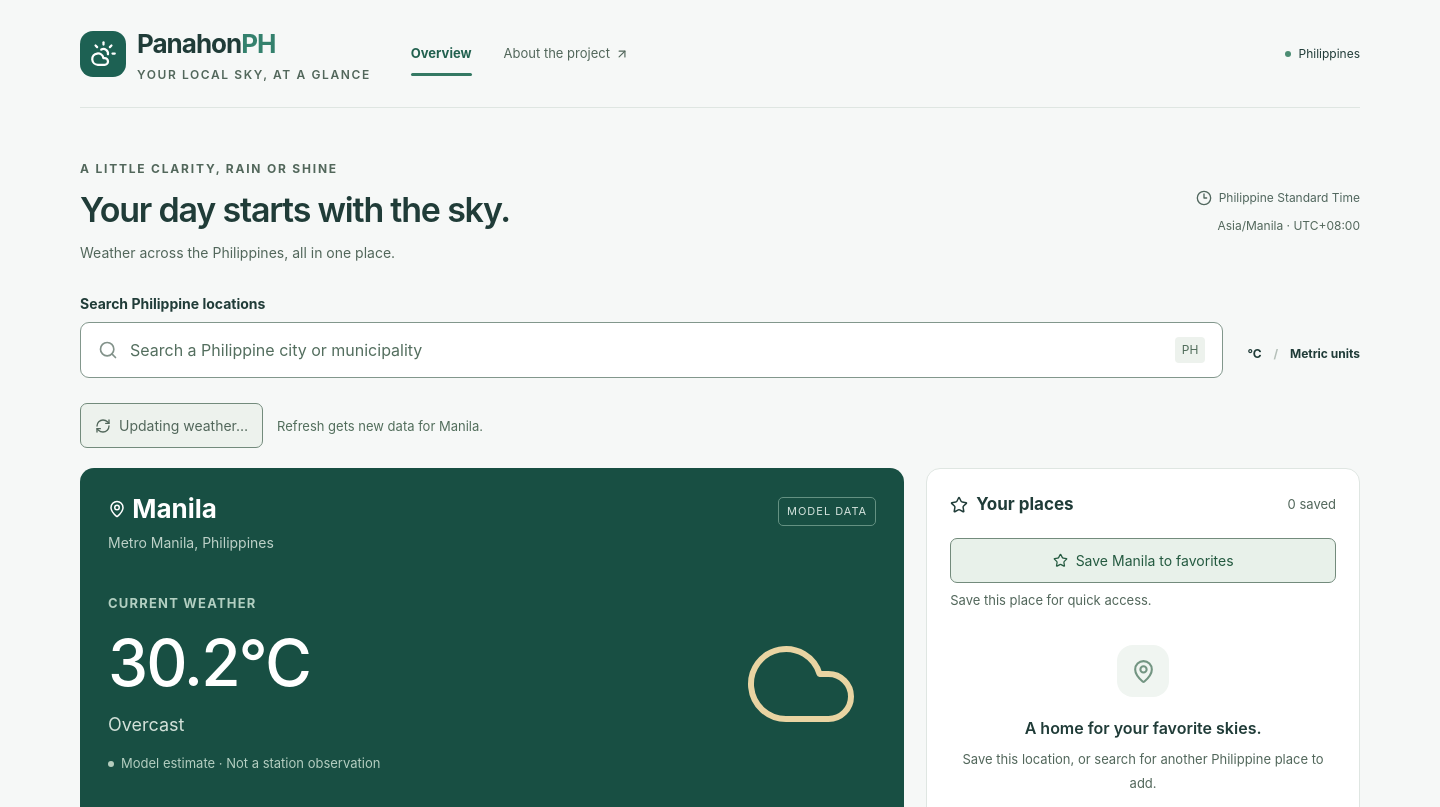
Test case: selected location and its weather › uses IDs for duplicate names and ignores out-of-order weather during rapid switching
Check: the text "30.2°C" is shown, box [108, 624, 310, 701]
Type "San Jose" into the dropdown.
click(646, 350); type("San Jose")  # box [130, 338, 1163, 362]
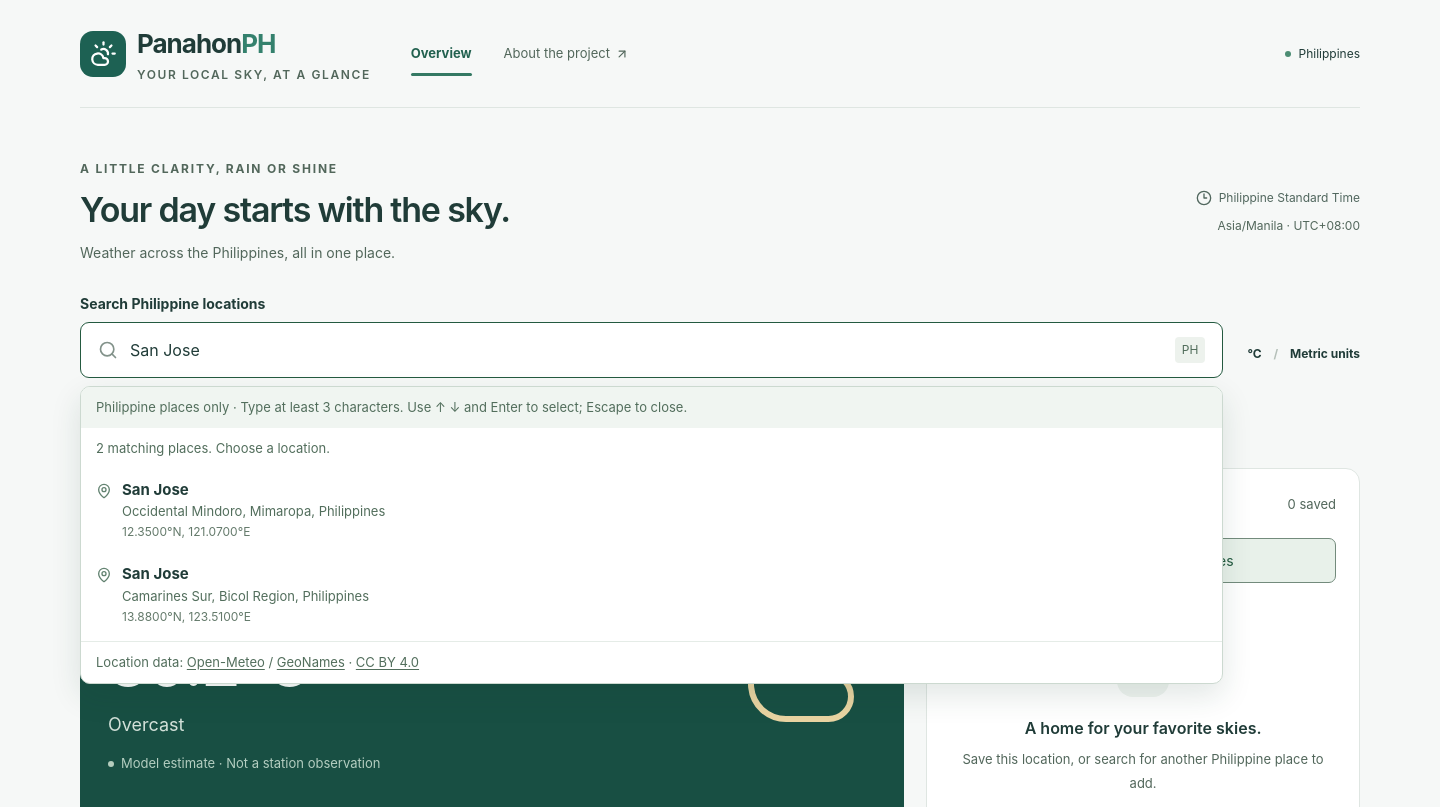
Click the 1st option.
click(241, 509)  # box [96, 480, 385, 539]
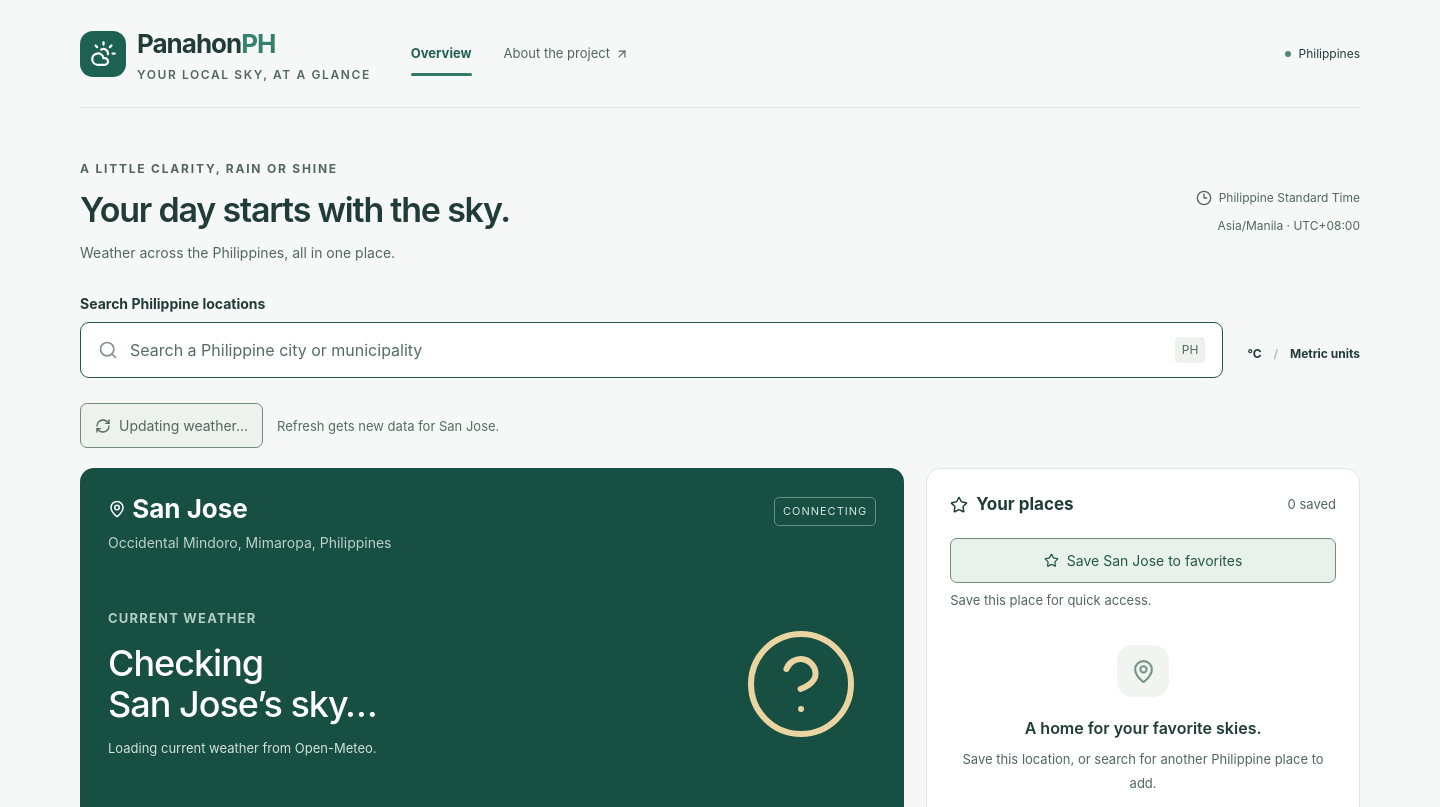
Type "San Jose" into the dropdown.
click(646, 350); type("San Jose")  # box [130, 338, 1163, 362]
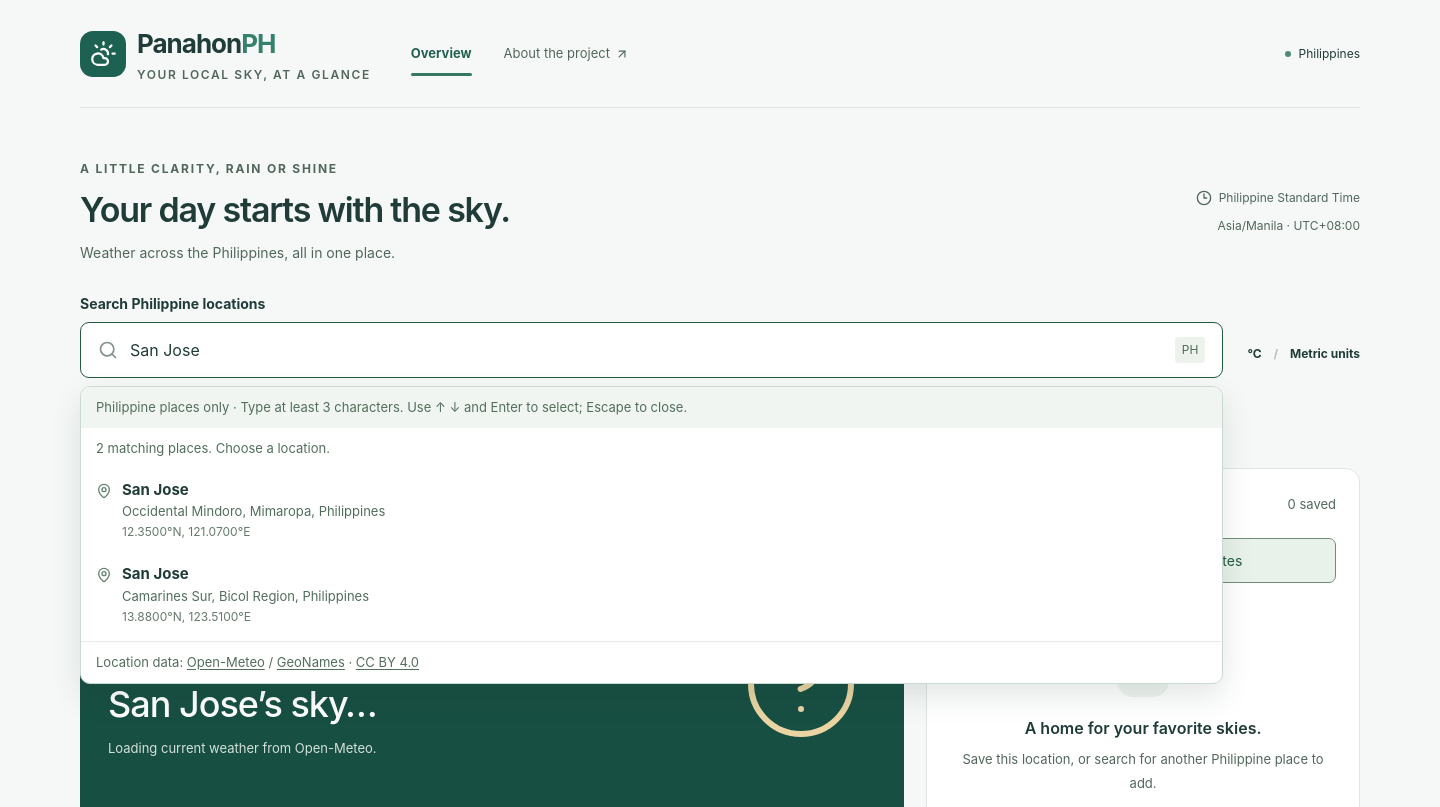
Click the 2nd option.
click(232, 594)  # box [96, 564, 369, 624]
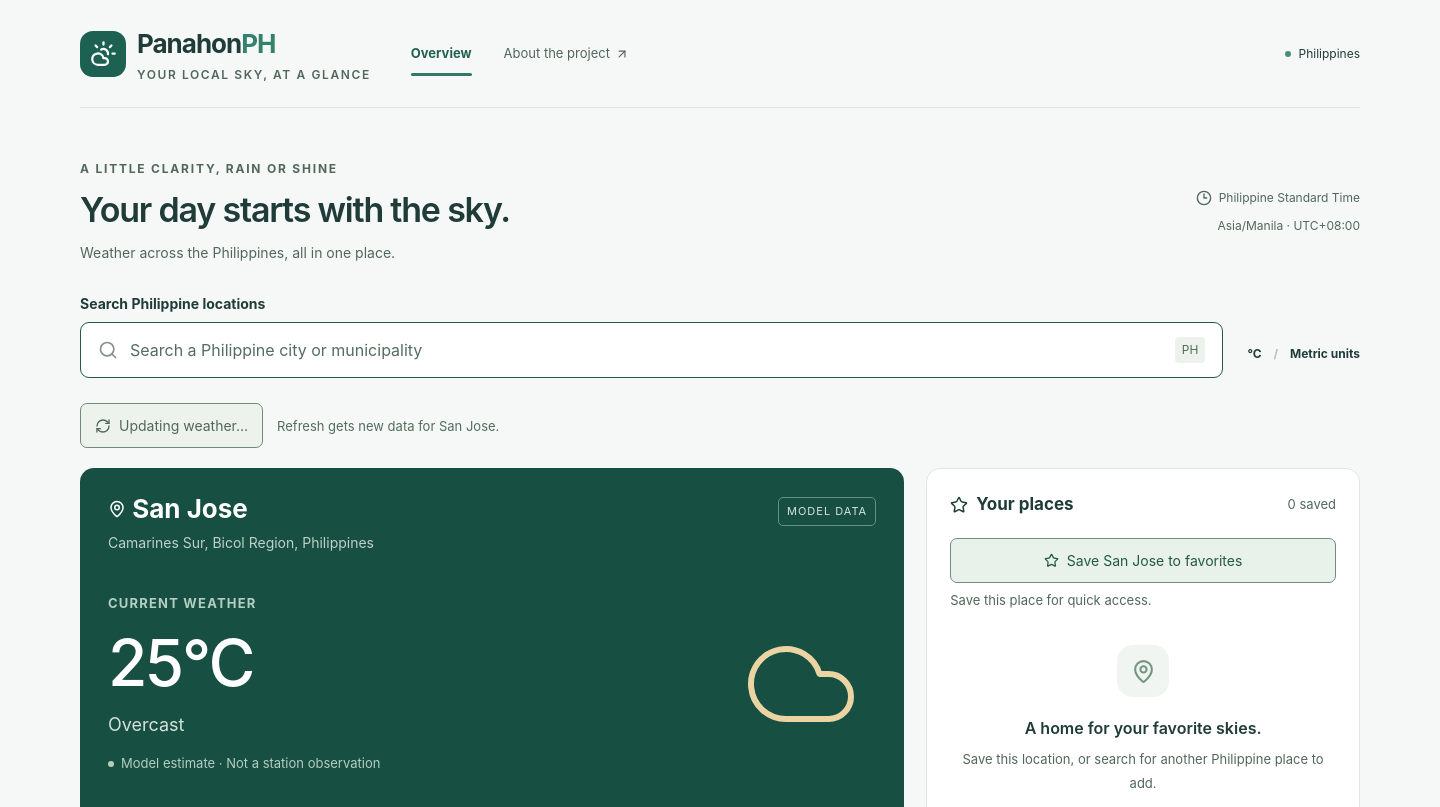
Check: the text "25°C" is shown, box [108, 624, 253, 701]
Check: the heading with class "location" shows "Camarines Sur", box [108, 534, 374, 551]
